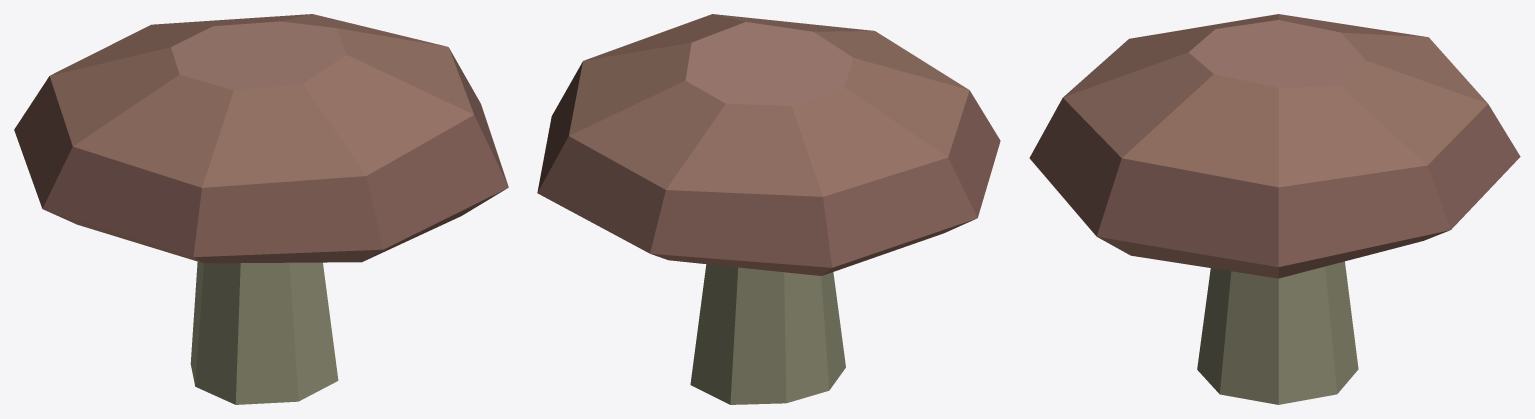
The model's file is SF_Env_Mushroom_02.fbx.
3 views of the same model, side by side, from view 1: azimuth 30°, elevation 25°; view 2: azimuth 150°, elevation 25°; view 3: azimuth 270°, elevation 25° (orthographic). The views are drawn at different scales.
Visible parts, largest first — view 1: SF_Env_Mushroom_02; view 2: SF_Env_Mushroom_02; view 3: SF_Env_Mushroom_02.
Part boxes in pixels (x1,y1,x2,y2): SF_Env_Mushroom_02: (14, 14, 508, 404); SF_Env_Mushroom_02: (537, 14, 1000, 404); SF_Env_Mushroom_02: (1029, 14, 1520, 404).
Bounding box in the file's own units: 2.38 × 1.69 × 2.33.
